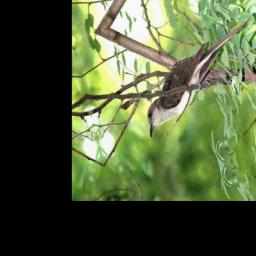Cuckoo: (129, 17, 256, 138)
